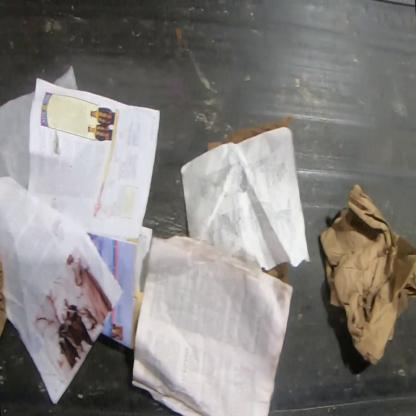cardboard: (318, 183, 416, 366), (210, 112, 294, 150), (0, 250, 9, 340), (262, 261, 288, 284)
